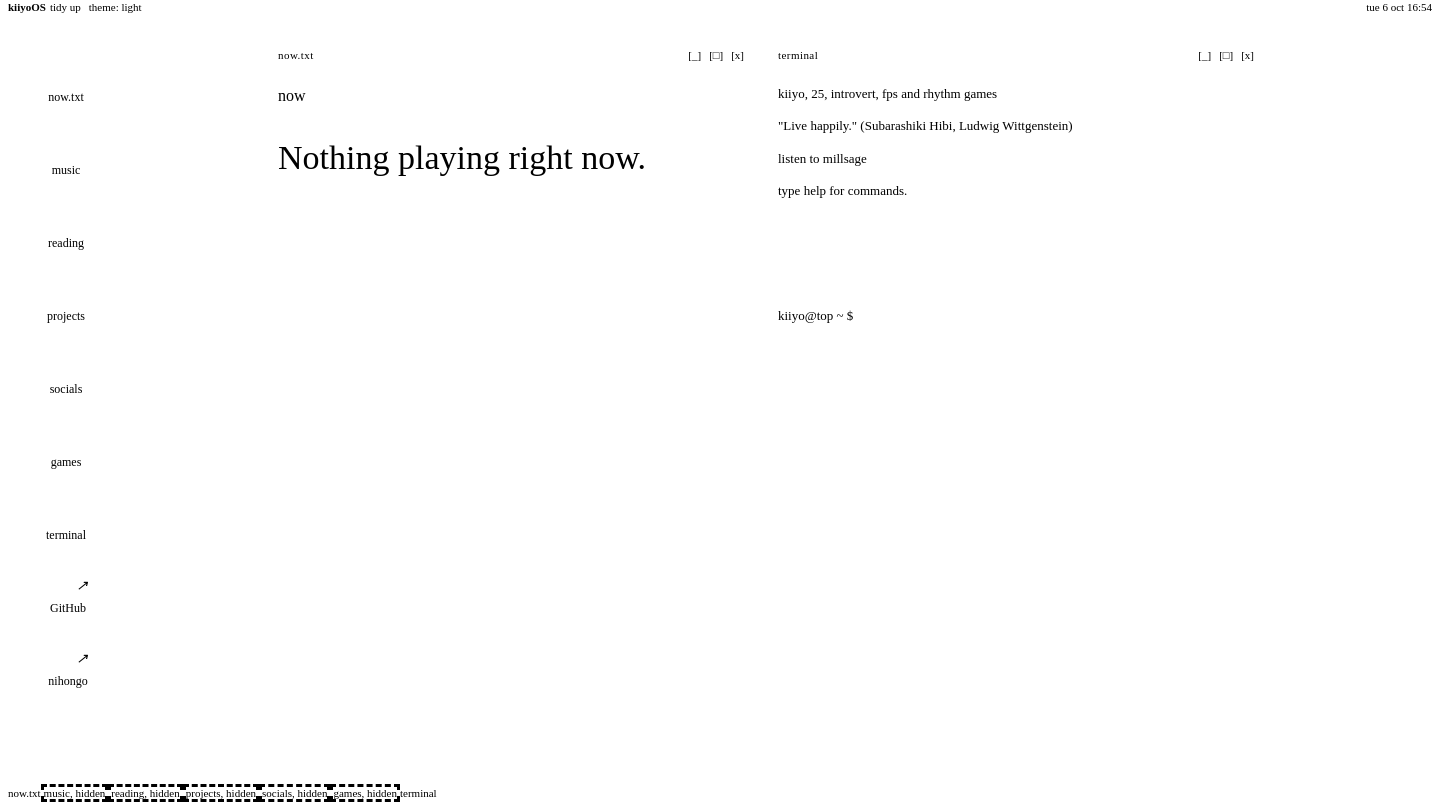
Test: a closed window comes back from the taskbar
This screenshot has width=1440, height=810.
(page scrolled)
Click the button "music, hidden" at (74, 793), box left=41, top=784, right=108, bottom=802
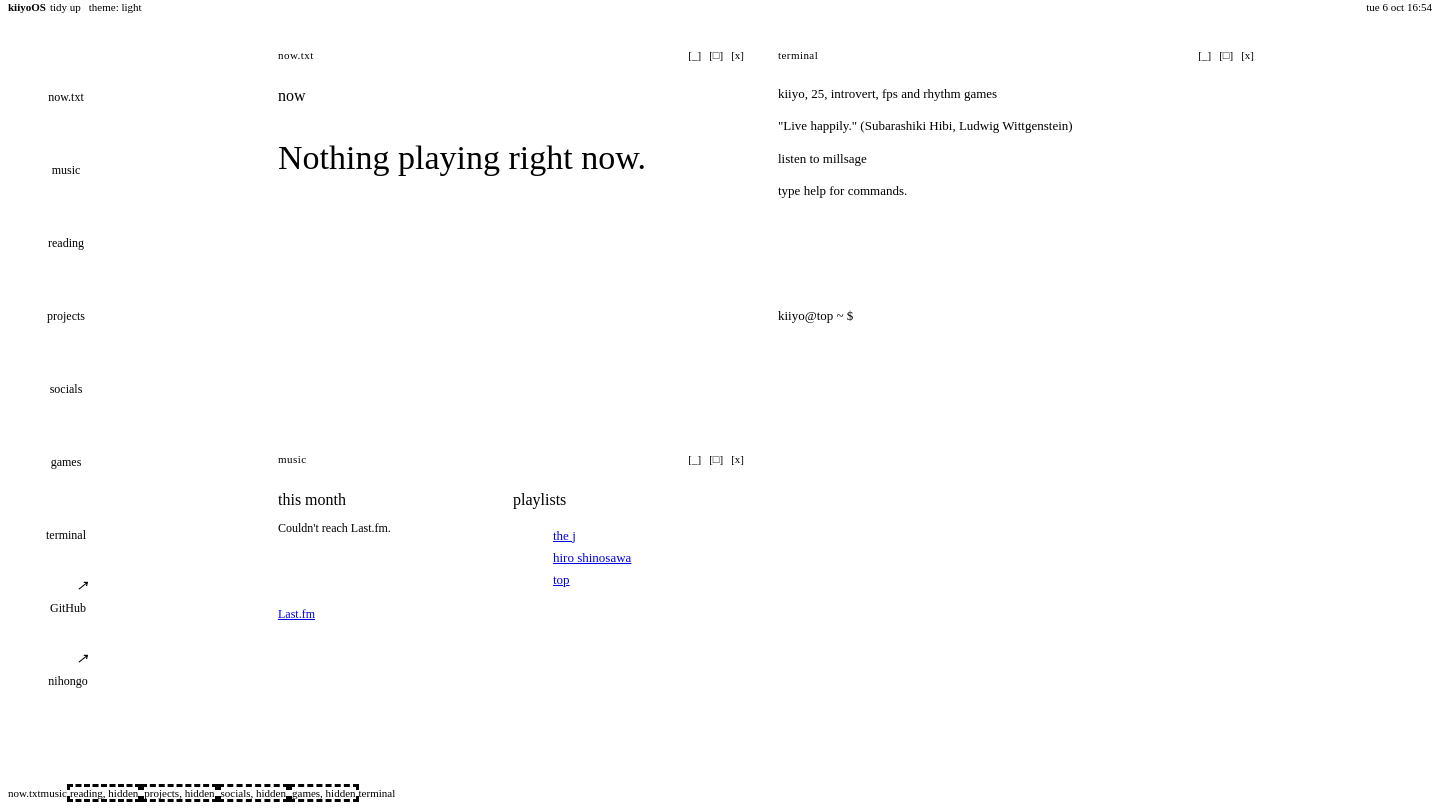
Check: the element "music" is shown, box left=278, top=444, right=748, bottom=634
Click the button named "Close music" at (738, 459), box left=727, top=451, right=748, bottom=467
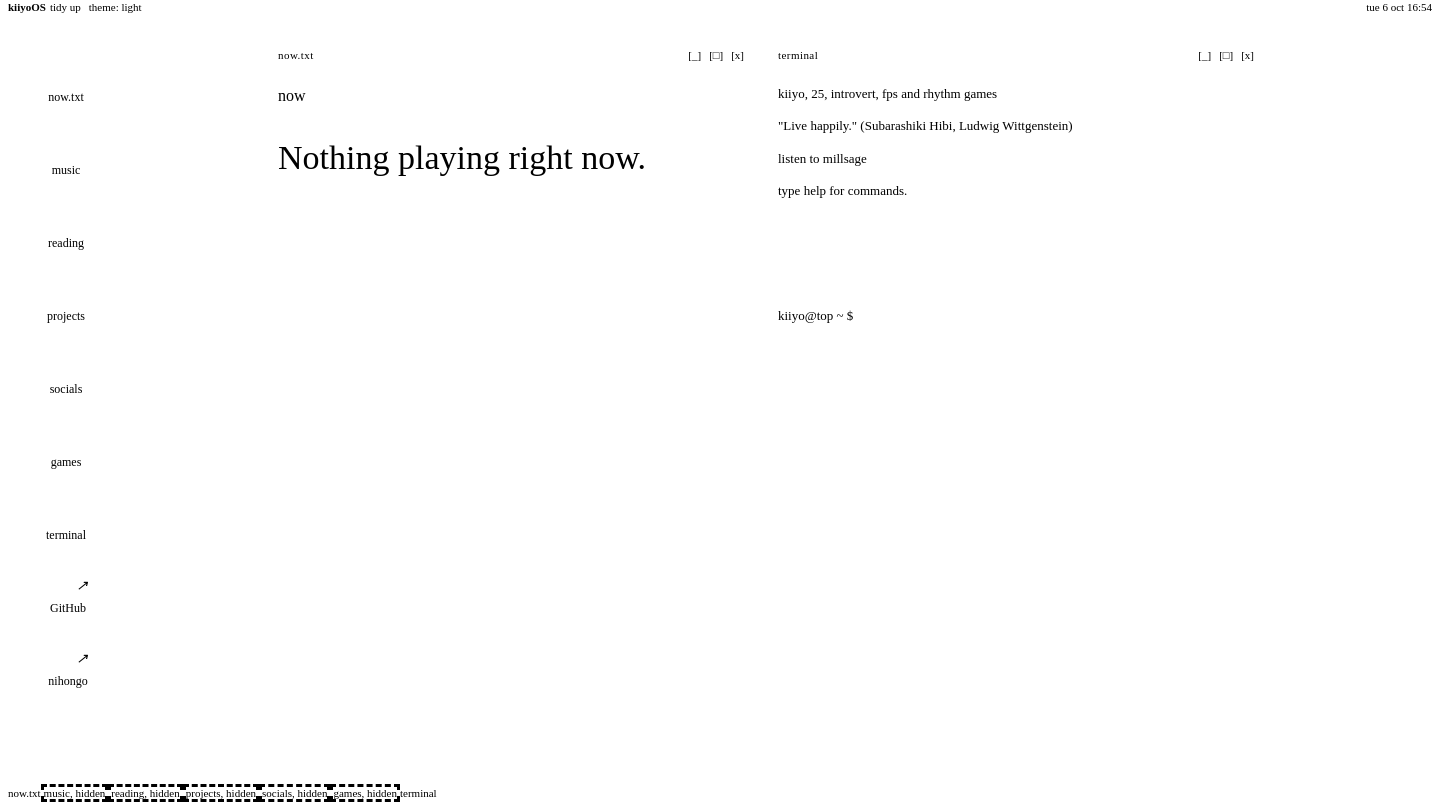
Click the button "music, hidden" at (74, 793), box left=41, top=784, right=108, bottom=802
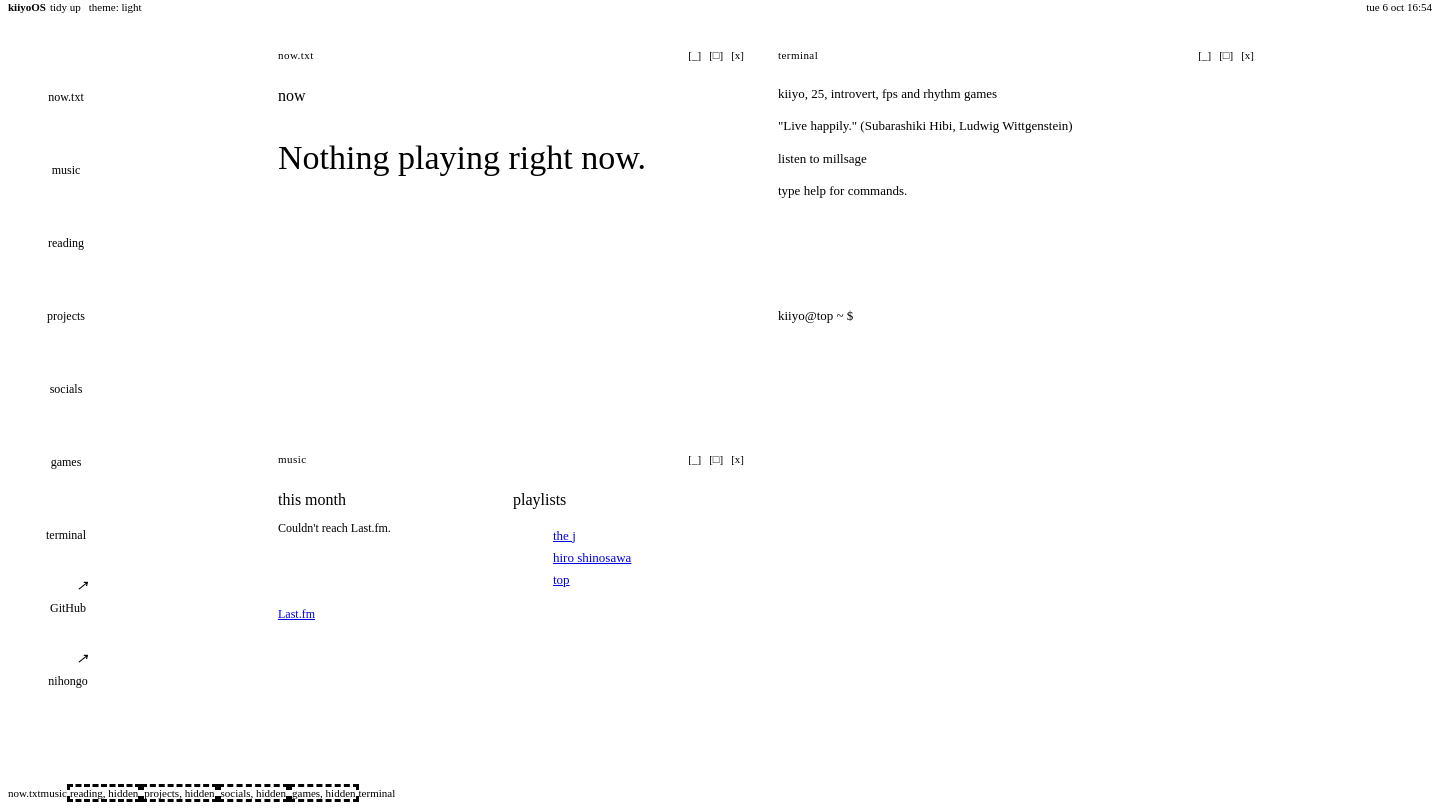
Check: the element "music" is shown, box left=278, top=444, right=748, bottom=634
